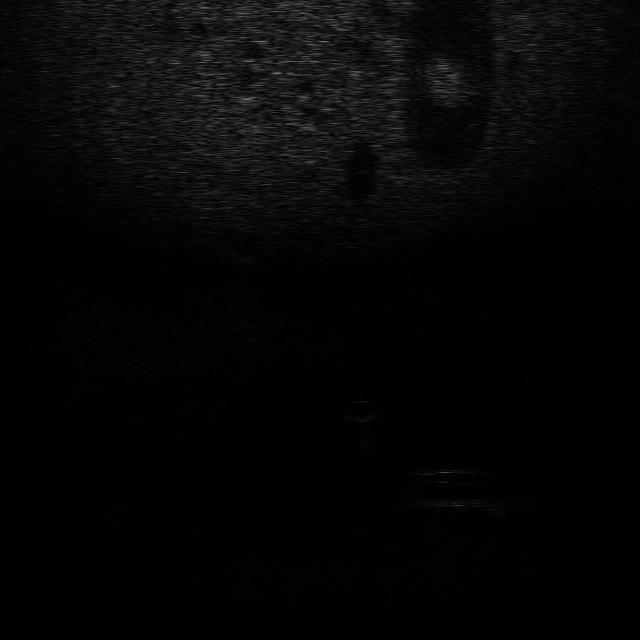ball: (334, 394, 385, 424)
tyre: (401, 467, 499, 512)
